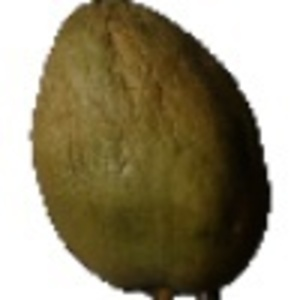mamão: (25, 2, 277, 291)
